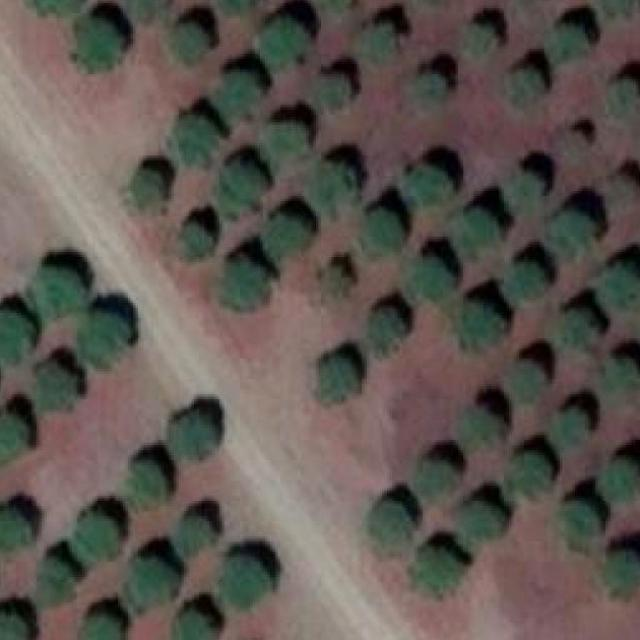Tree: (86, 313, 140, 369), (217, 554, 270, 610), (211, 160, 262, 217), (452, 300, 506, 348), (170, 114, 220, 164), (170, 414, 220, 464), (34, 267, 82, 318), (72, 18, 121, 67), (413, 546, 458, 598), (128, 552, 174, 602), (76, 511, 120, 562), (364, 206, 407, 257), (222, 257, 265, 308), (318, 166, 362, 214), (460, 499, 506, 544), (559, 498, 602, 546), (262, 21, 308, 65), (321, 353, 362, 402), (130, 166, 174, 211), (213, 69, 257, 113), (372, 500, 410, 550), (420, 458, 463, 502), (128, 458, 169, 504), (545, 23, 590, 64), (602, 552, 640, 600), (602, 356, 640, 404), (503, 260, 546, 301), (364, 21, 402, 67), (267, 216, 311, 255), (460, 209, 501, 250), (465, 407, 506, 448), (0, 307, 30, 363), (516, 450, 552, 496), (413, 260, 453, 301), (267, 118, 303, 163), (602, 79, 638, 123), (39, 364, 74, 409), (407, 169, 446, 209), (174, 21, 209, 65), (603, 457, 640, 498), (316, 69, 357, 105), (557, 308, 595, 346), (552, 211, 592, 247), (0, 509, 32, 554), (605, 267, 640, 308), (369, 303, 404, 343), (509, 69, 544, 108), (176, 222, 211, 260), (39, 562, 74, 600), (412, 72, 451, 106), (174, 609, 215, 640), (465, 23, 496, 62), (0, 412, 27, 456), (318, 267, 351, 303), (557, 409, 590, 445), (511, 361, 541, 399), (178, 514, 211, 548), (80, 612, 118, 640), (611, 175, 640, 209), (513, 171, 547, 199), (1, 614, 37, 640), (601, 0, 639, 18), (26, 0, 76, 13), (130, 0, 169, 13), (225, 0, 260, 13), (565, 133, 583, 157), (323, 0, 354, 13)
